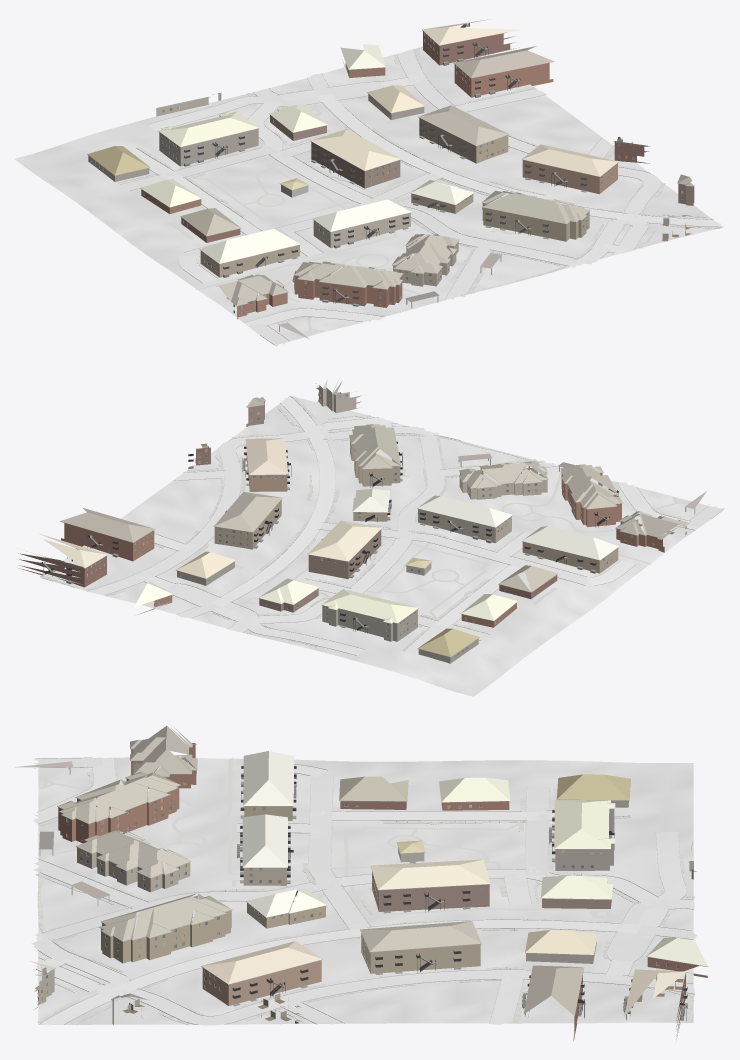
The picture shows the model from 3 angles, top to bottom: view 1: azimuth 30°, elevation 25°; view 2: azimuth 150°, elevation 25°; view 3: azimuth 270°, elevation 25°; orthographic projection. The views are drawn at different scales.
Parts seen in each view (by area): view 1: ground, roof, wall, concrete, walk, curb, detail, asphalt, rail; view 2: ground, roof, wall, concrete, walk, asphalt, curb, detail, rail, glass; view 3: ground, roof, concrete, wall, walk, curb, asphalt, detail, rail, roof_flat, room, glass (+1 smaller).
Part boxes in pixels (x1,y1,x2,y2): ground: (14, 47, 723, 345); roof: (87, 19, 693, 305); wall: (88, 31, 694, 319); concrete: (120, 49, 661, 346); walk: (117, 46, 720, 337); curb: (118, 47, 724, 345); detail: (87, 23, 693, 314); asphalt: (307, 73, 720, 226); rail: (184, 24, 620, 301); ground: (39, 396, 723, 696); roof: (40, 377, 689, 656); wall: (18, 385, 664, 663); concrete: (87, 417, 724, 654); walk: (41, 396, 689, 650); asphalt: (177, 397, 335, 617); curb: (40, 396, 723, 655); detail: (35, 383, 686, 658); rail: (41, 441, 618, 629); glass: (61, 392, 686, 655); ground: (38, 757, 693, 1024); roof: (28, 725, 707, 1016); concrete: (31, 757, 694, 1025); wall: (34, 743, 707, 1040); walk: (36, 758, 695, 1025); curb: (34, 757, 694, 1025); asphalt: (41, 920, 696, 1025); detail: (39, 744, 707, 1023); rail: (96, 766, 687, 1019); roof_flat: (15, 761, 110, 898); room: (35, 757, 683, 1021); glass: (46, 761, 679, 990).
Bounding box in the file's own units: 272 × 21.05 × 272.
